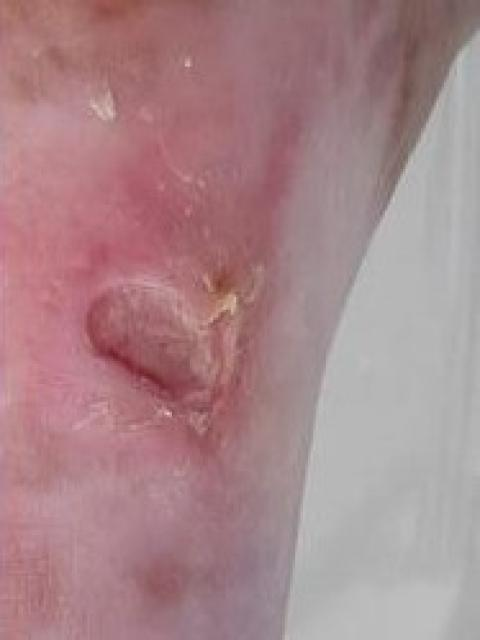wound: (85, 266, 262, 456)
